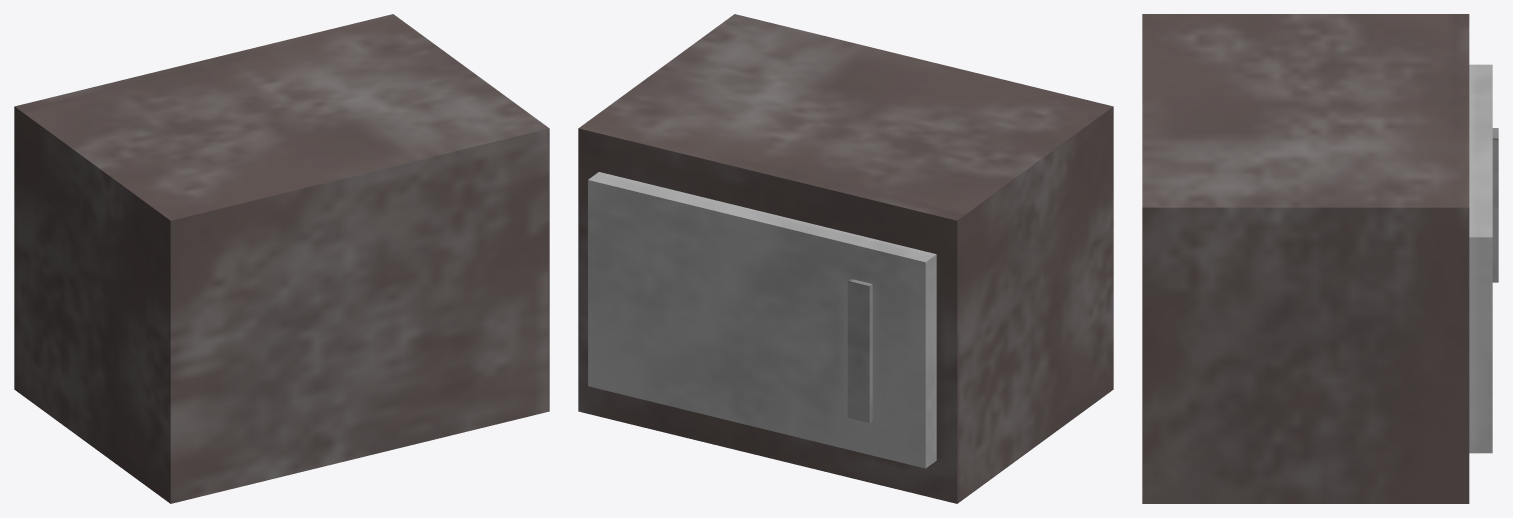
File: balcao1.glb
3 views of the same model, side by side, from view 1: azimuth 30°, elevation 25°; view 2: azimuth 150°, elevation 25°; view 3: azimuth 270°, elevation 25° (orthographic). The views are drawn at different scales.
Parts seen in each view (by area): view 1: Cube.002; view 2: Cube.002; view 3: Cube.002.
Part boxes in pixels (x1,y1,x2,y2): Cube.002: (14,14,549,503); Cube.002: (578,14,1113,503); Cube.002: (1142,14,1498,503).
Size of the model in its own units: 1.4 by 1 by 1.09.
1 material, 1 textured.
